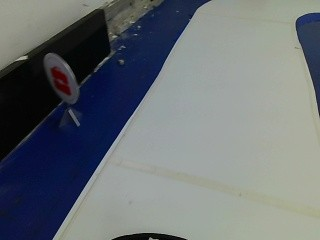company: (38, 36, 83, 106)
